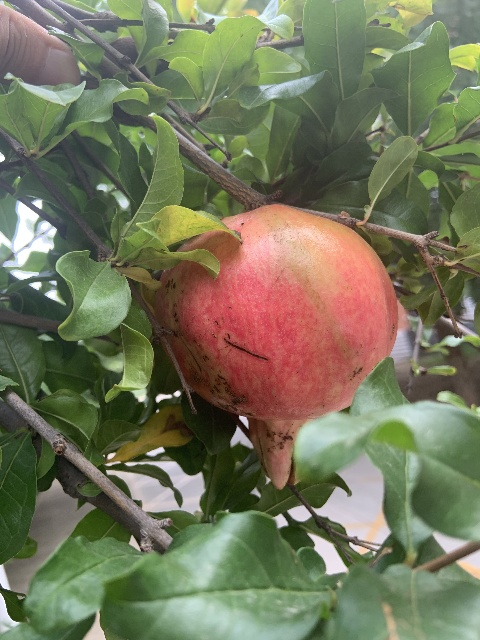ripe: (154, 204, 399, 489)
